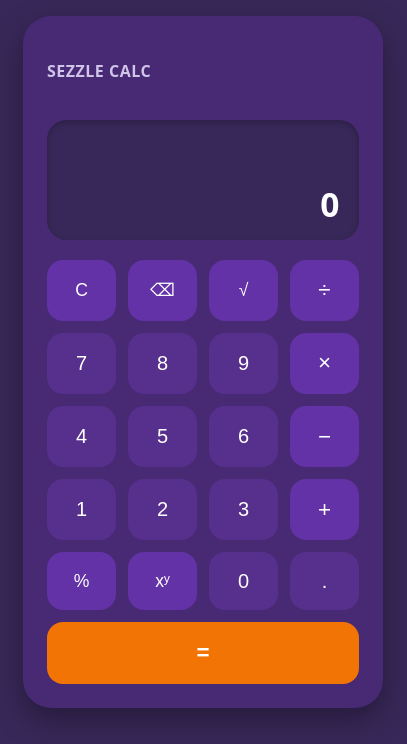
Test case: Calculator Component › executes a successful calculation via the mocked API
This screenshot has width=407, height=744.
Click the button "1": (82, 510) [47,479,116,540]
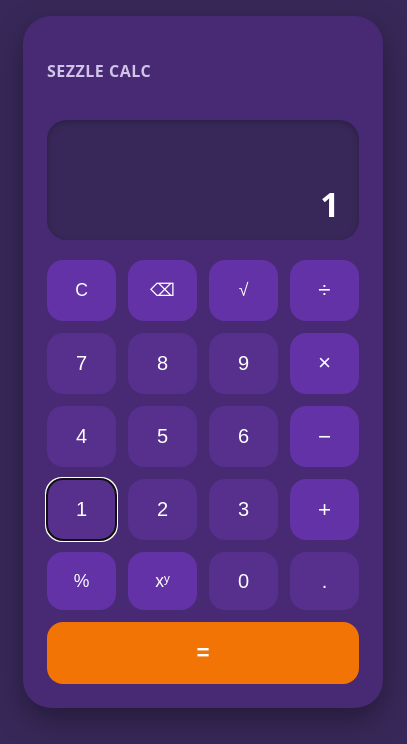
Click the button "0": (244, 581) [209,552,278,610]
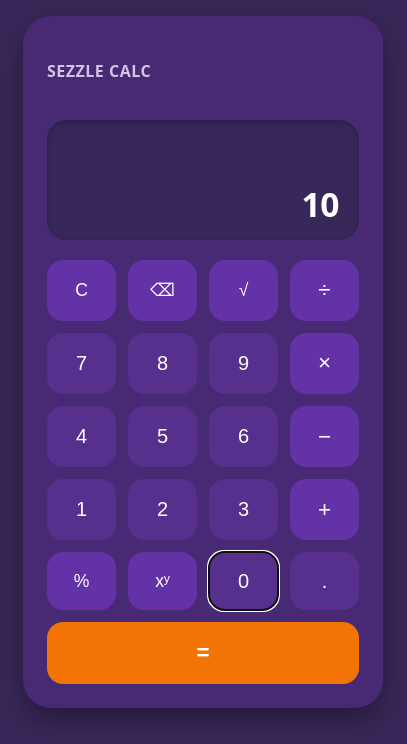
Click the button "+": (324, 510) [290,479,359,540]
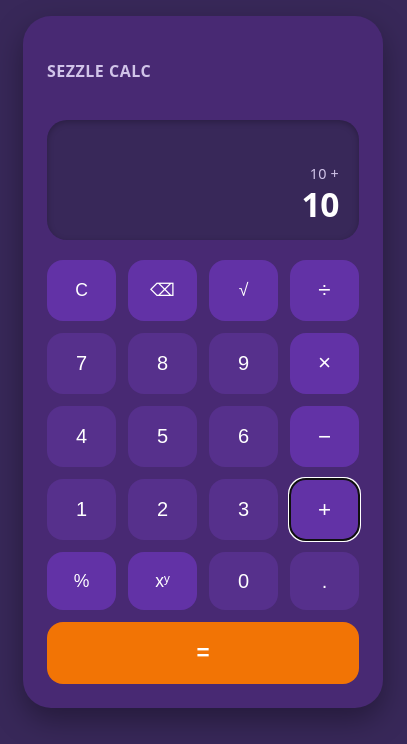
Click the button "5": (162, 436) [128,406,197,467]
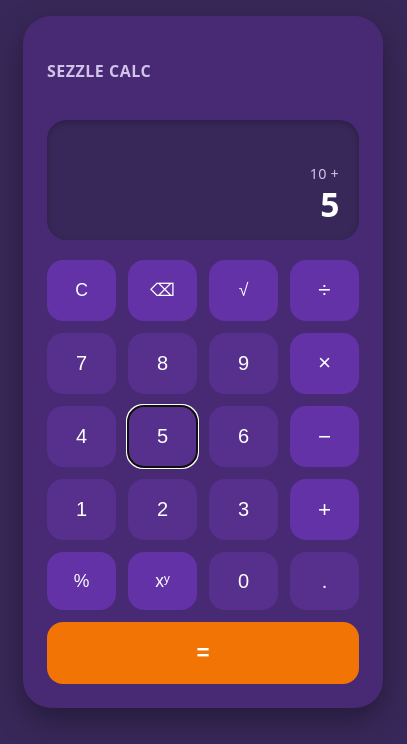
Click the button "=": (203, 653) [47,622,359,684]
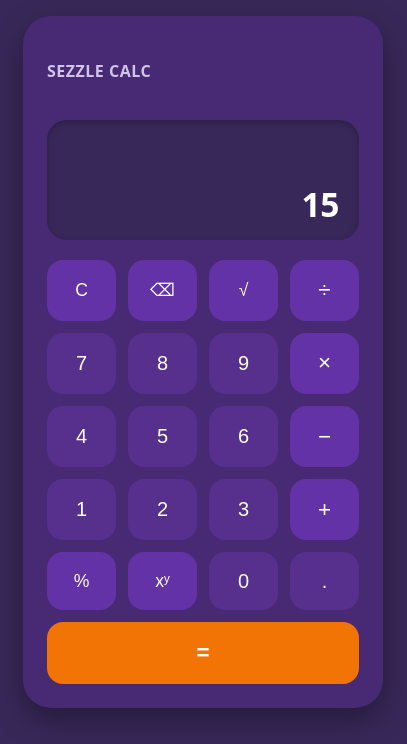
Check: the text "15" is shown, box [302,185,339,224]
